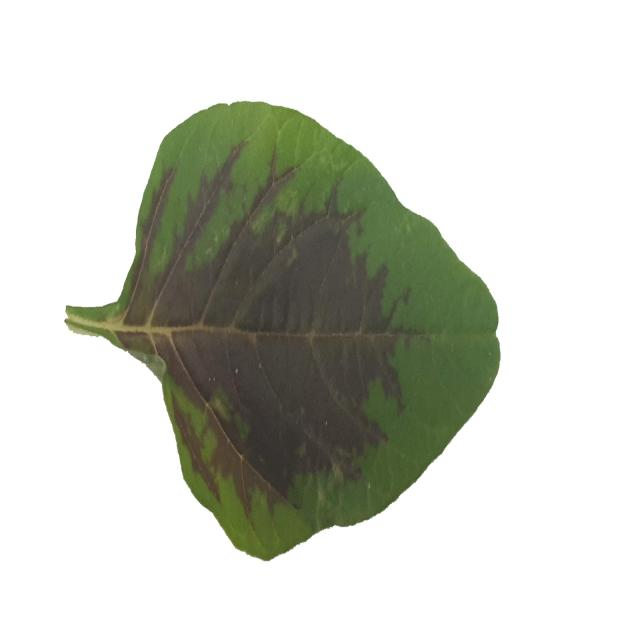Medicinal-Arive Dantu: (62, 103, 501, 562)
